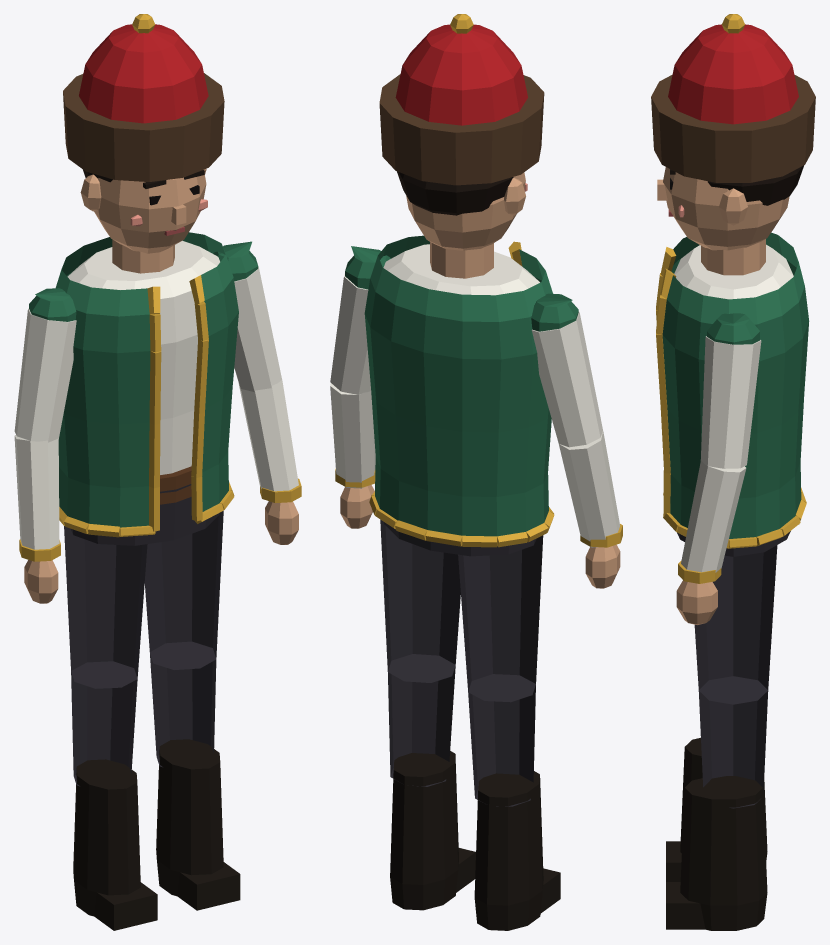
Rendered from Child_Boy2.obj.
The picture shows the model from 3 angles, left to right: view 1: azimuth 30°, elevation 25°; view 2: azimuth 150°, elevation 25°; view 3: azimuth 270°, elevation 25°; orthographic projection.
Visible parts, largest first — view 1: Child_Boy2; view 2: Child_Boy2; view 3: Child_Boy2.
Part boxes in pixels (box(x1,y1,x2,y2)): Child_Boy2: box(14, 14, 301, 930); Child_Boy2: box(330, 14, 622, 930); Child_Boy2: box(651, 14, 815, 930).
Bounding box in the file's own units: 0.4422 × 1.33 × 0.2254.
